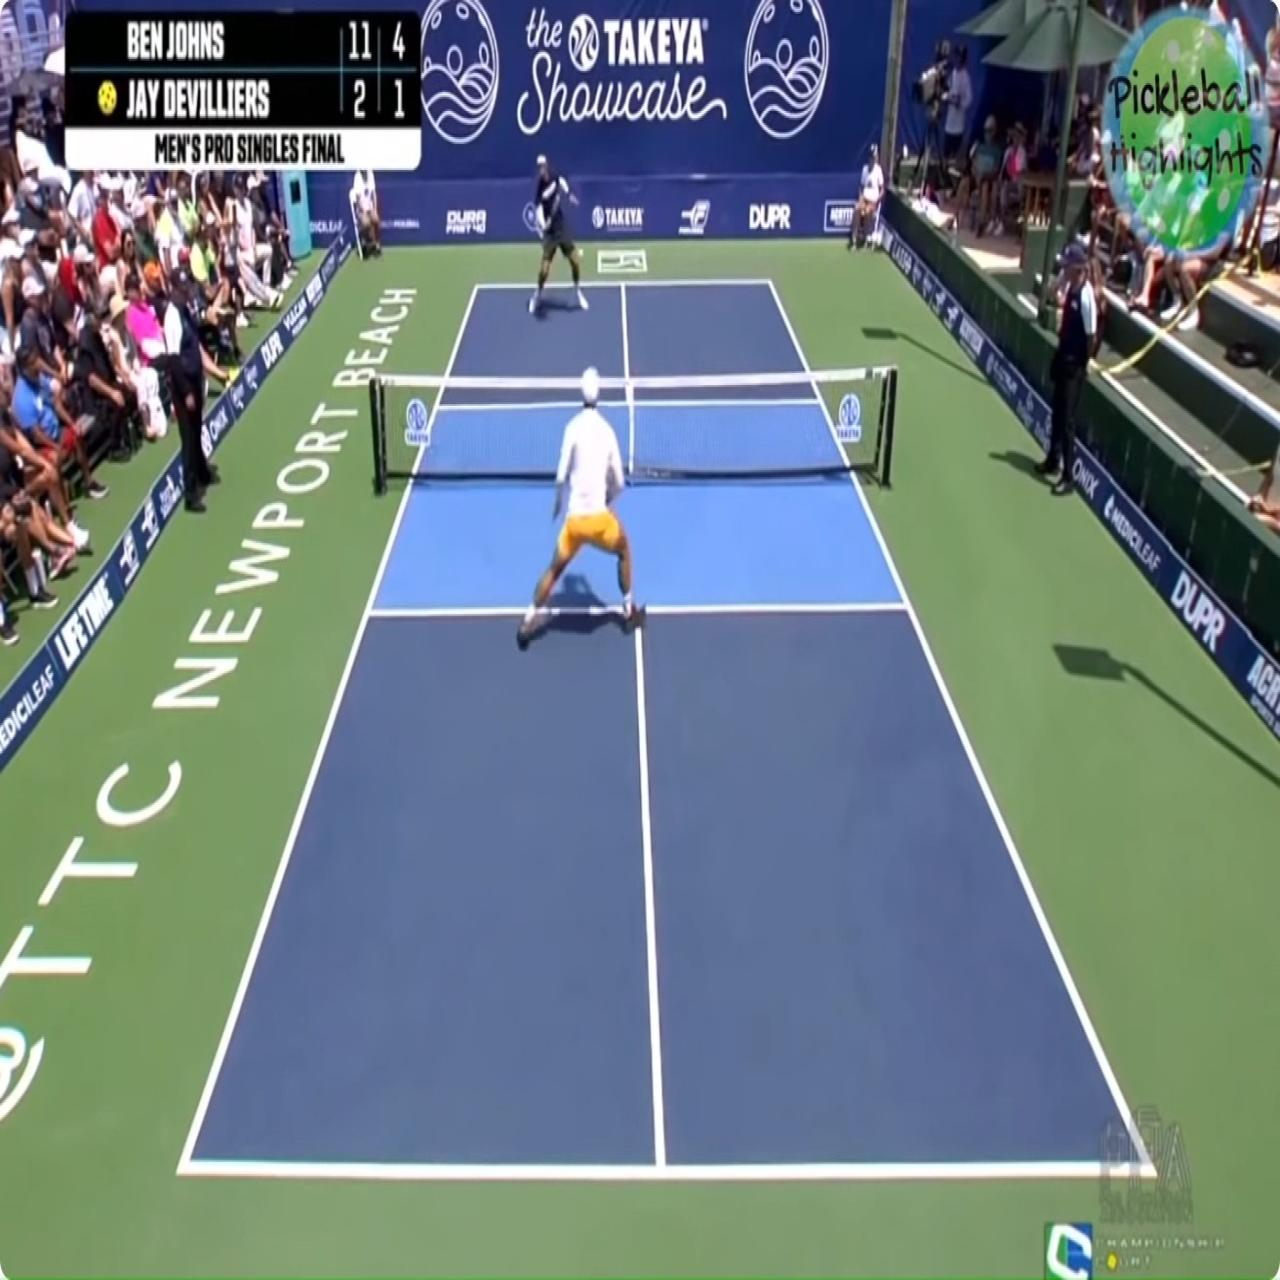pickleball: (578, 248, 585, 258)
